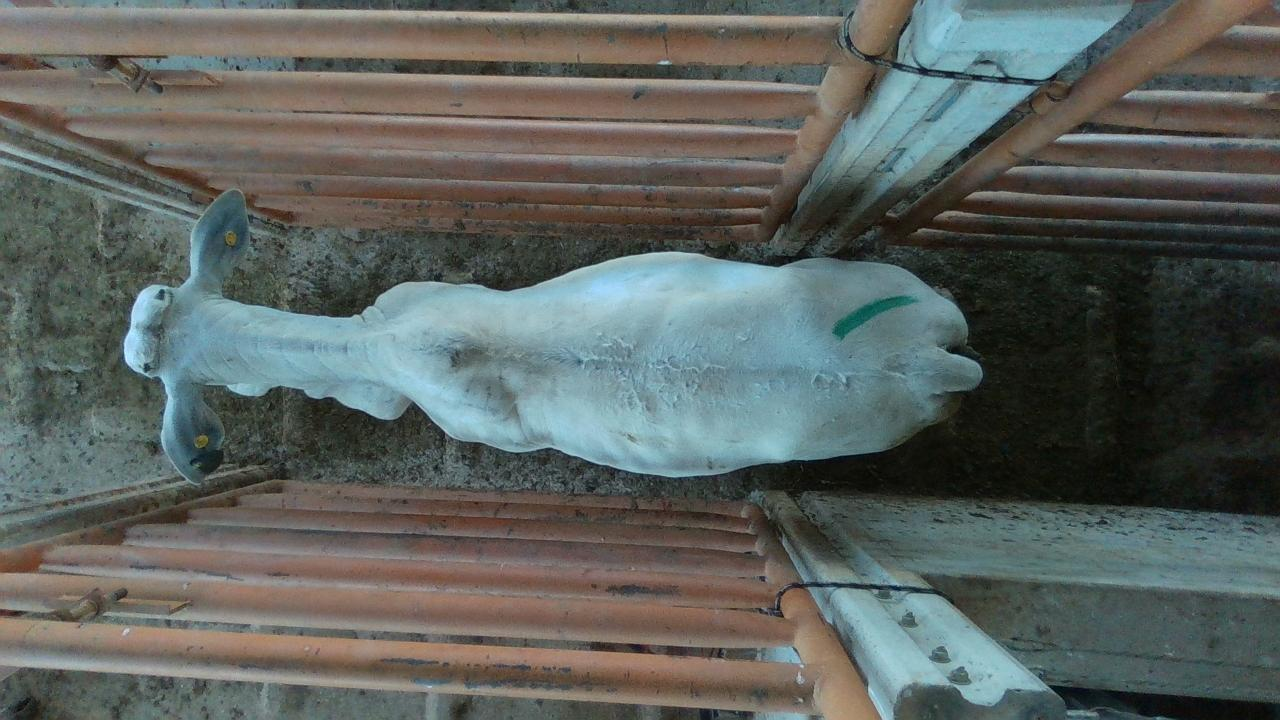cattle: (121, 186, 985, 485)
